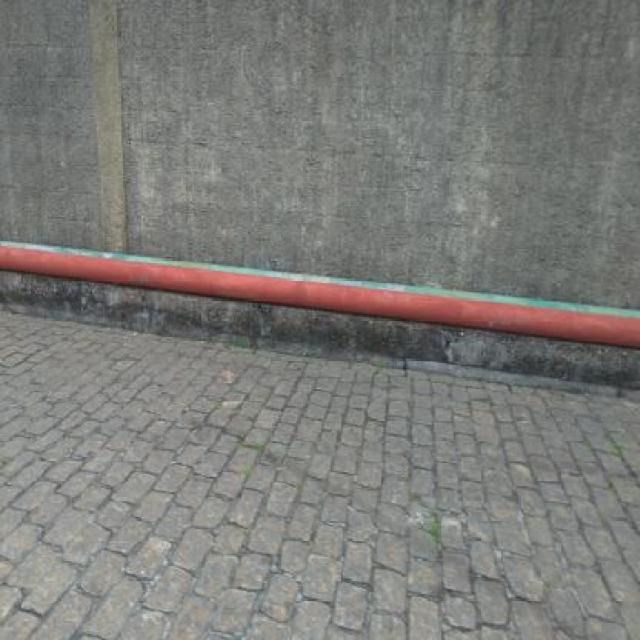gas: (0, 246, 640, 349)
